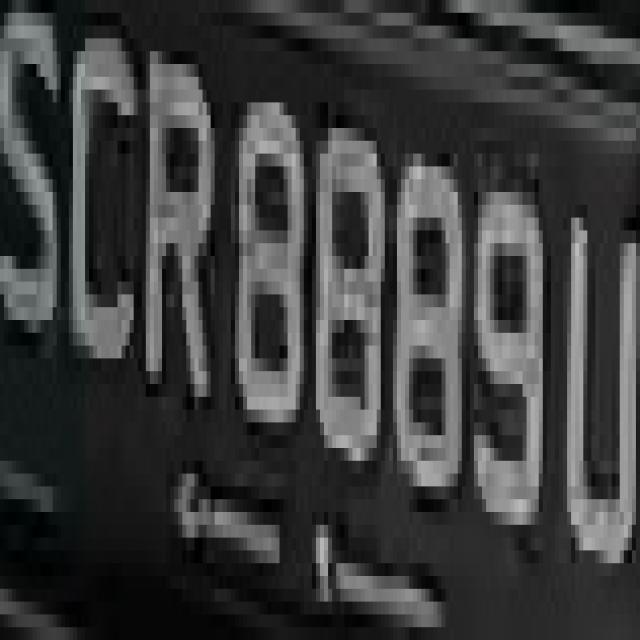8: (308, 90, 389, 538), (393, 102, 470, 512), (227, 90, 308, 460)
9: (466, 90, 555, 550)
C: (61, 13, 150, 371)
R: (142, 26, 219, 460)
S: (0, 0, 65, 346)
U: (563, 141, 640, 550)
